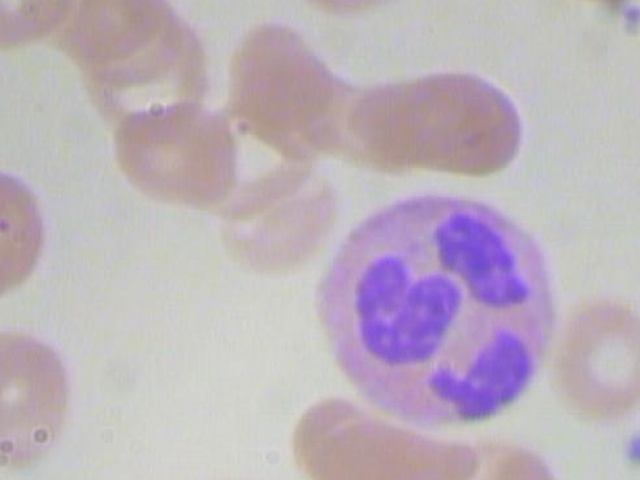Platelets: (618, 425, 640, 479)
RBC: (104, 91, 244, 216), (389, 63, 529, 188), (209, 151, 337, 273), (536, 290, 640, 423), (0, 322, 80, 469), (0, 163, 56, 323), (0, 0, 88, 57), (277, 0, 414, 21), (0, 347, 2, 480)
WBC: (305, 178, 566, 435)
